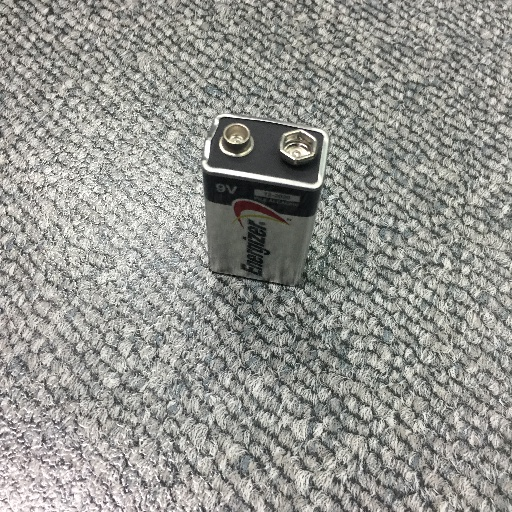Battery_3: (192, 97, 334, 316)
